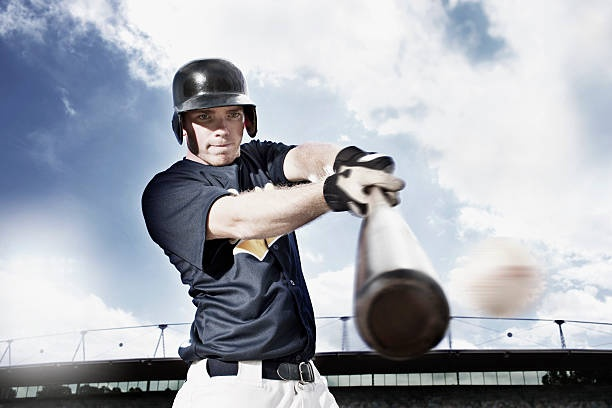bita: (356, 171, 450, 354)
